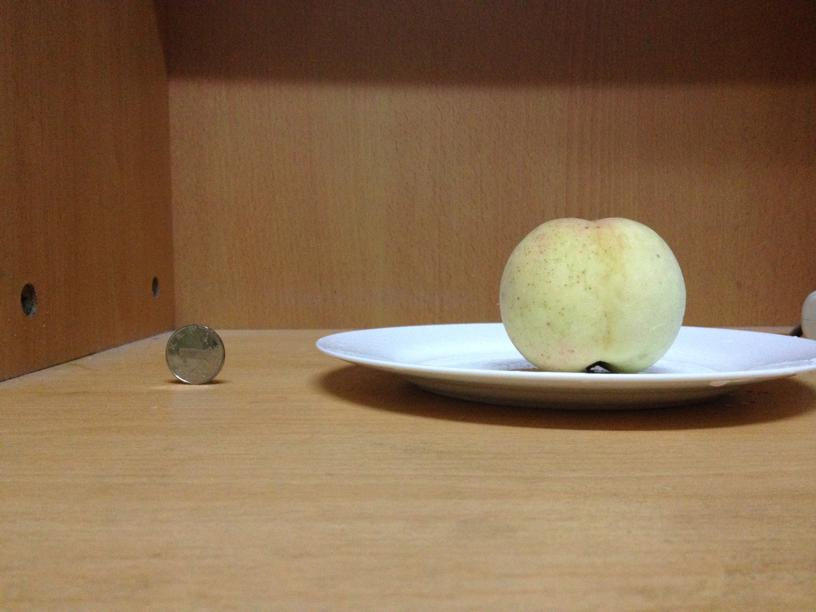coin: (165, 324, 226, 384)
peach: (498, 216, 689, 373)
